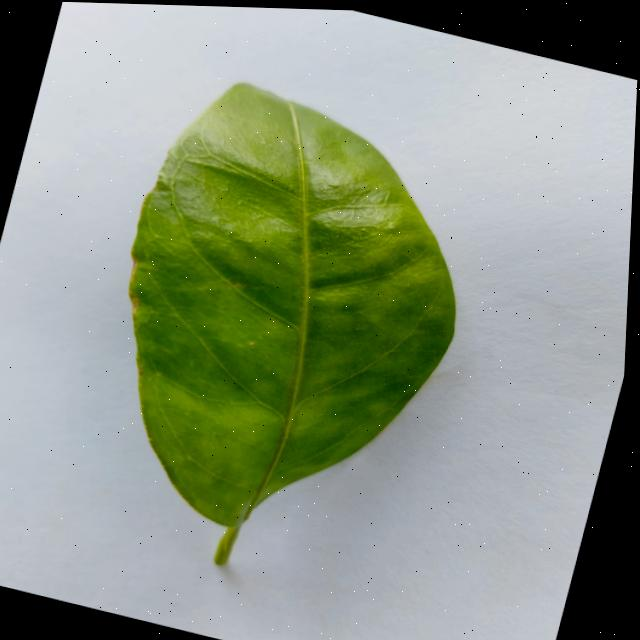greening: (128, 83, 453, 563)
